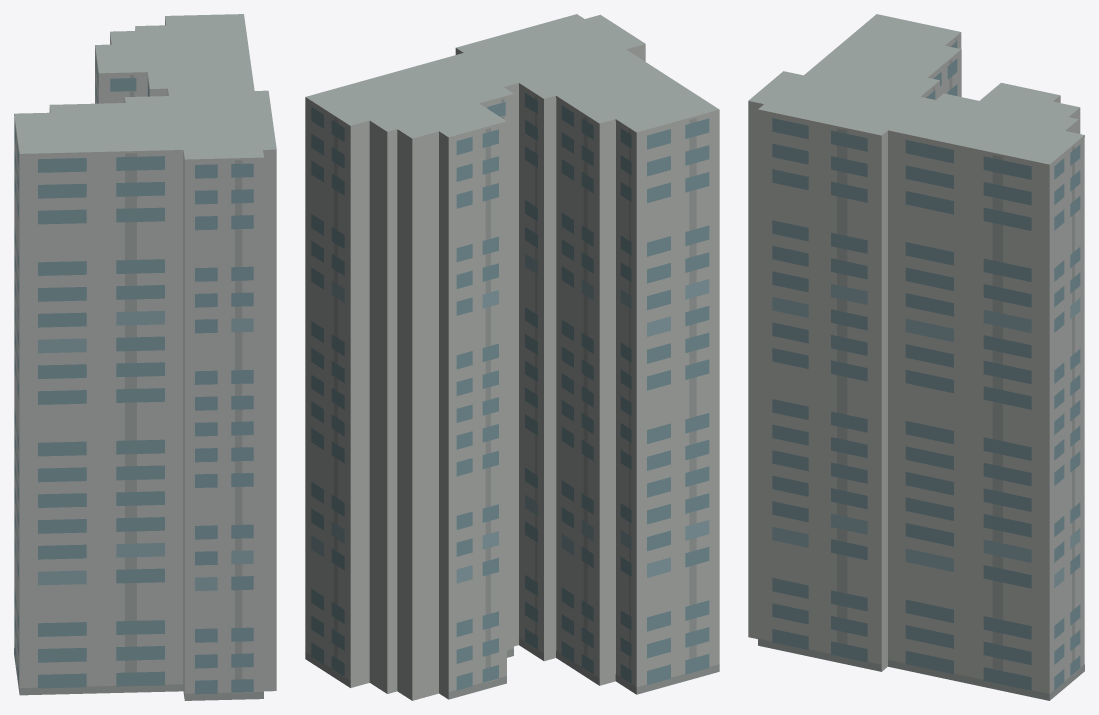
The model's file is residential-3ddfcad0-354f-402c-b4c3-141d34ec2766.glb.
The picture shows the model from 3 angles, left to right: view 1: azimuth 30°, elevation 25°; view 2: azimuth 150°, elevation 25°; view 3: azimuth 270°, elevation 25°; orthographic projection. The views are drawn at different scales.
Visible parts, largest first — view 1: residential-3ddfcad0-354f-402c-b4c3-141d34ec2766.tmp; view 2: residential-3ddfcad0-354f-402c-b4c3-141d34ec2766.tmp; view 3: residential-3ddfcad0-354f-402c-b4c3-141d34ec2766.tmp.
Part boxes in pixels (left/top/right/bottom): residential-3ddfcad0-354f-402c-b4c3-141d34ec2766.tmp: left=14, top=14, right=276, bottom=700; residential-3ddfcad0-354f-402c-b4c3-141d34ec2766.tmp: left=305, top=14, right=719, bottom=700; residential-3ddfcad0-354f-402c-b4c3-141d34ec2766.tmp: left=748, top=14, right=1084, bottom=700.
Size of the model in its own units: 36.75 by 61 by 34.71.
